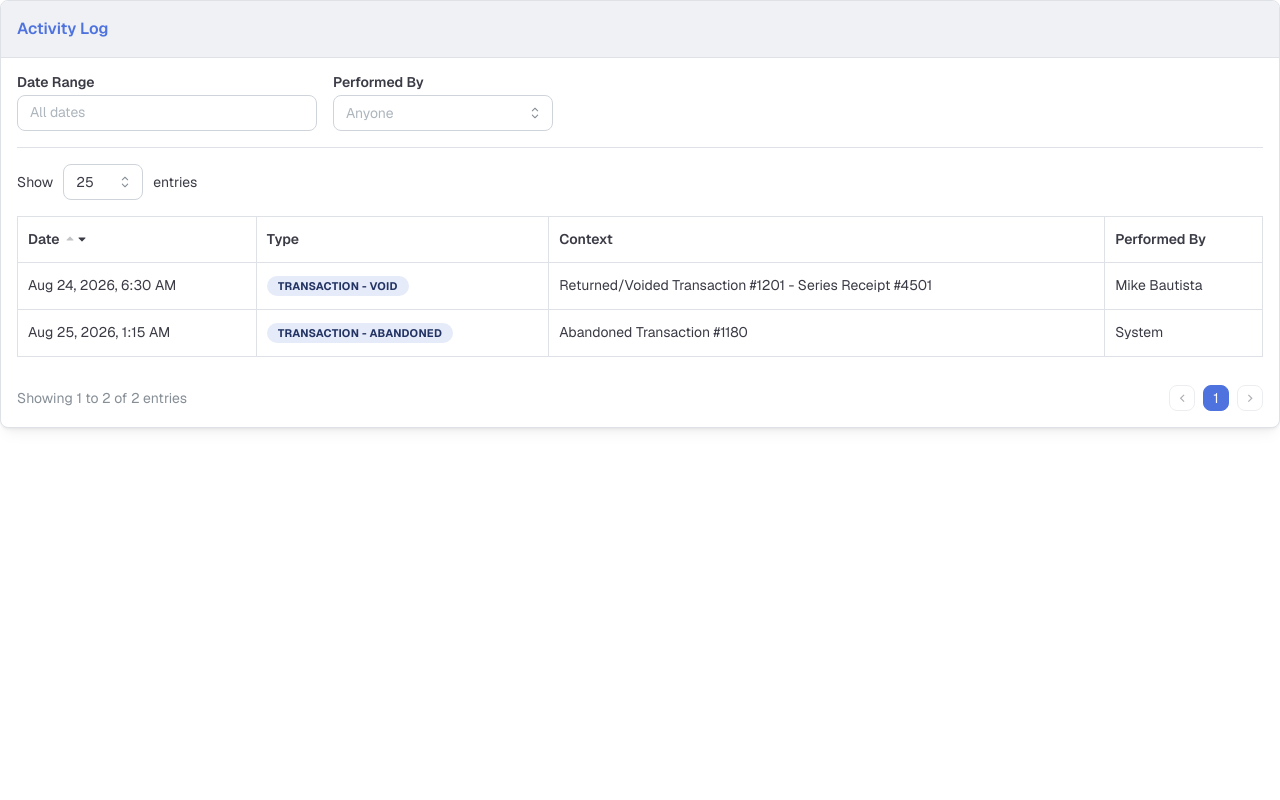
it: ActivityLogPage — the detail drawer › opens on the row's own data before the details land
The image size is (1280, 800).
Click the text "Returned/Voided Transaction #1201 - Series Receipt #4501" at (827, 286), box left=549, top=263, right=1105, bottom=310
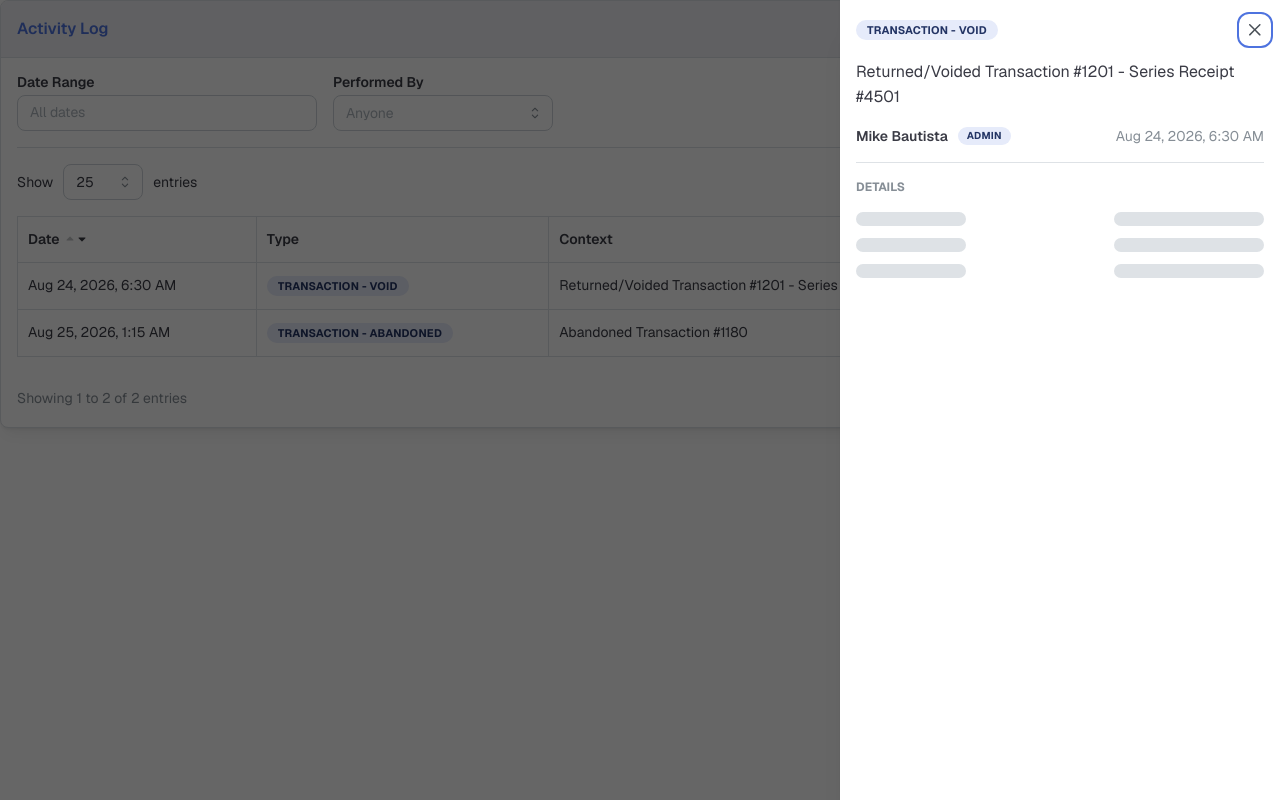
Expected: the text "Transaction - Void" is shown, left=867, top=21, right=987, bottom=39
Expected: the text "Returned/Voided Transaction #1201 - Series Receipt #4501" is shown, left=856, top=60, right=1264, bottom=110
Expected: the text "Mike Bautista" is shown, left=856, top=126, right=948, bottom=146
